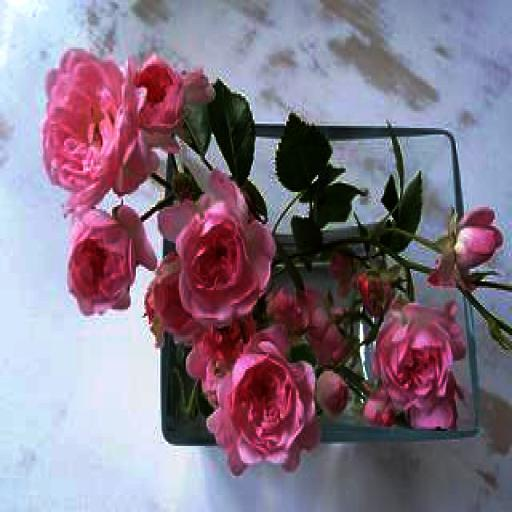rose: (162, 171, 272, 322), (42, 49, 150, 201), (208, 333, 318, 476), (371, 298, 464, 428), (64, 207, 144, 311), (131, 53, 187, 124)
